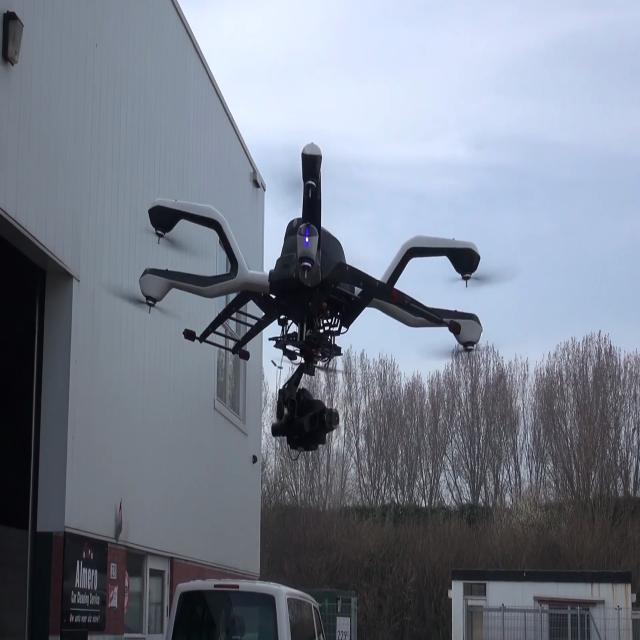drone: (132, 140, 522, 497)
